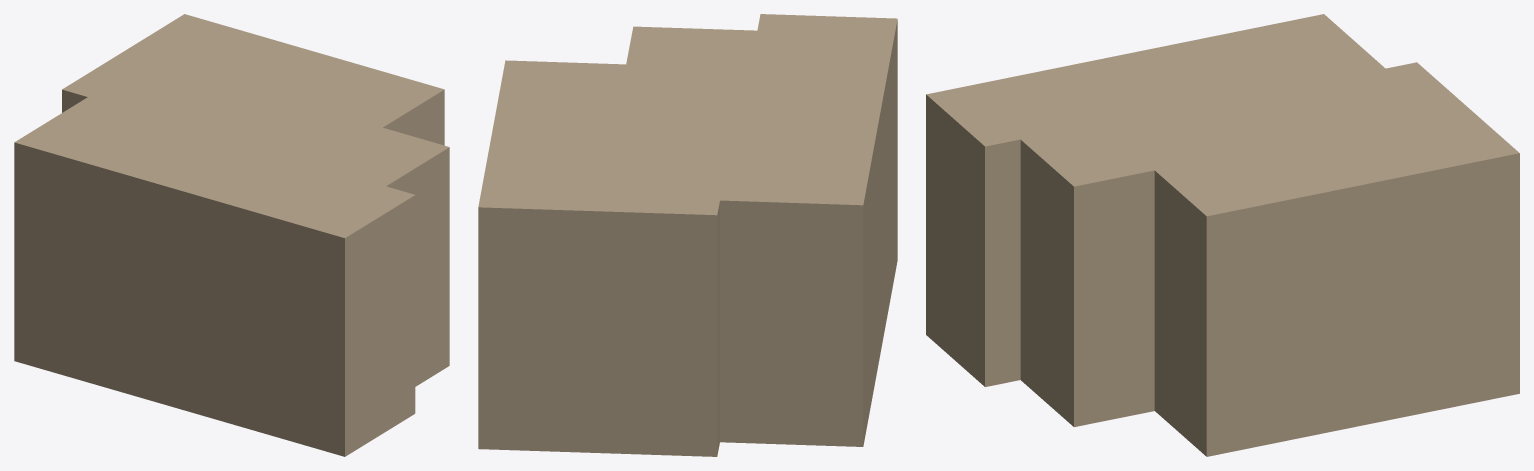
Rendered from bld_106306696.dae.
3 renders of one model, left to right at view 1: azimuth 30°, elevation 25°; view 2: azimuth 150°, elevation 25°; view 3: azimuth 270°, elevation 25°, orthographic. The views are drawn at different scales.
Visible parts, largest first — view 1: bld_106306696; view 2: bld_106306696; view 3: bld_106306696.
Boxes of the visible parts, left/top/right/bottom form: bld_106306696: left=14, top=14, right=449, bottom=456; bld_106306696: left=478, top=14, right=897, bottom=456; bld_106306696: left=926, top=14, right=1519, bottom=456.
Size of the model in its own units: 14.43 by 17.89 by 8.
